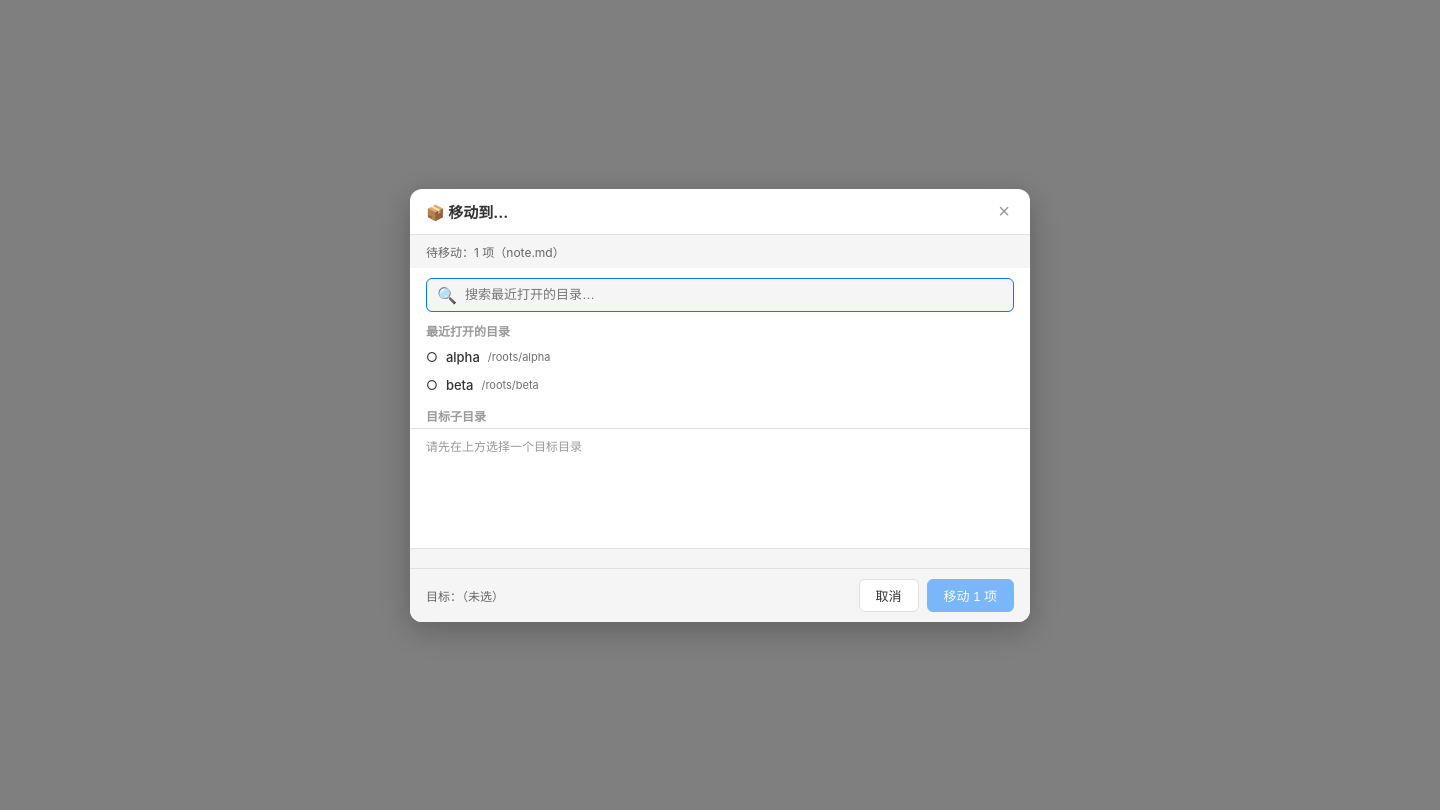
Test case: MoveToDialog › 选择过滤结果后保留搜索条件和过滤列表
Expected: the text "alpha" is shown, [446,348,480,364]
Type "beta" into the field named "搜索移动目标目录" at [734, 294], box [465,287,1003,302]
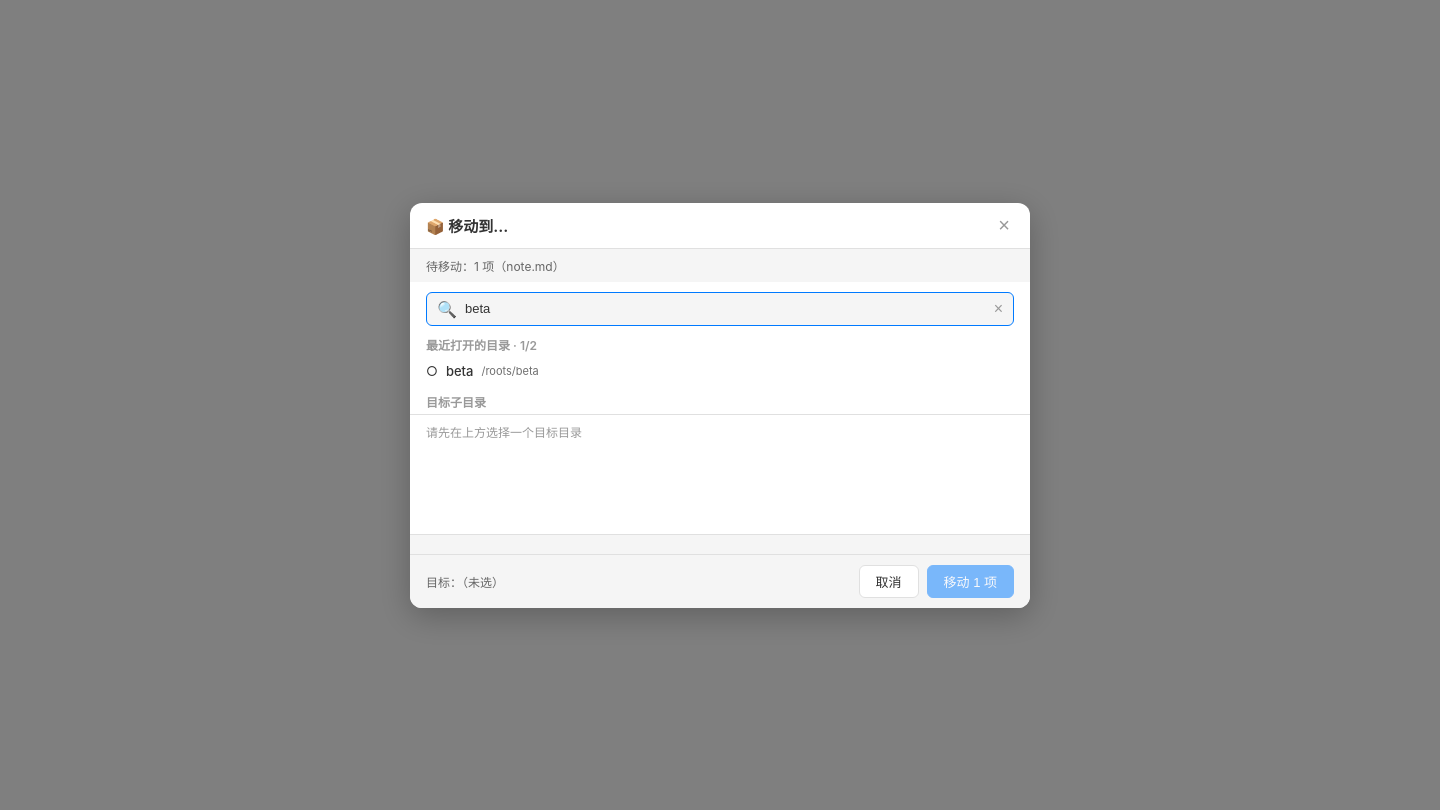
Click the text "beta" at [460, 370], box [446,362,473,378]
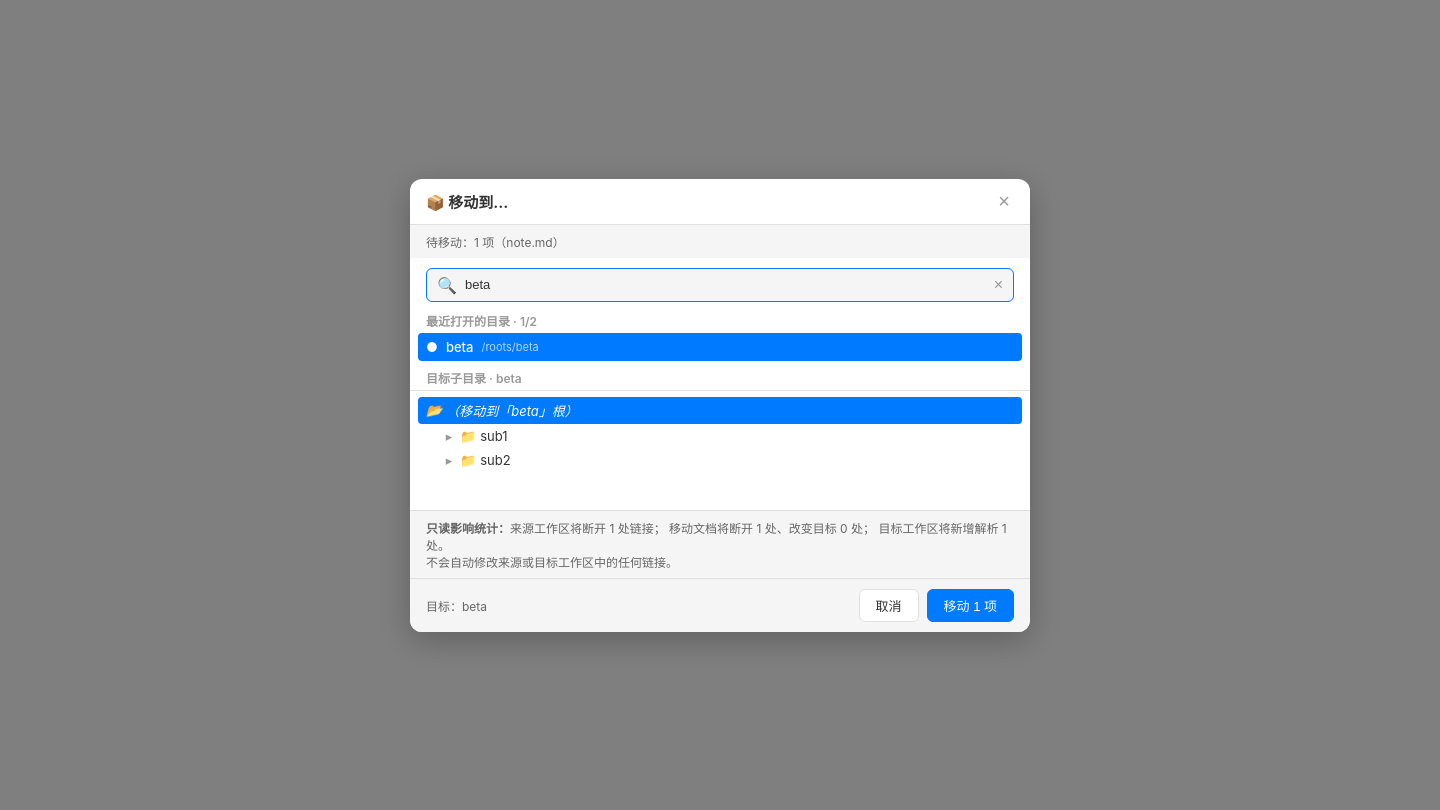
Expected: the text "alpha" is not shown
Now the text "sub1" is shown, box [480,428,508,444]
